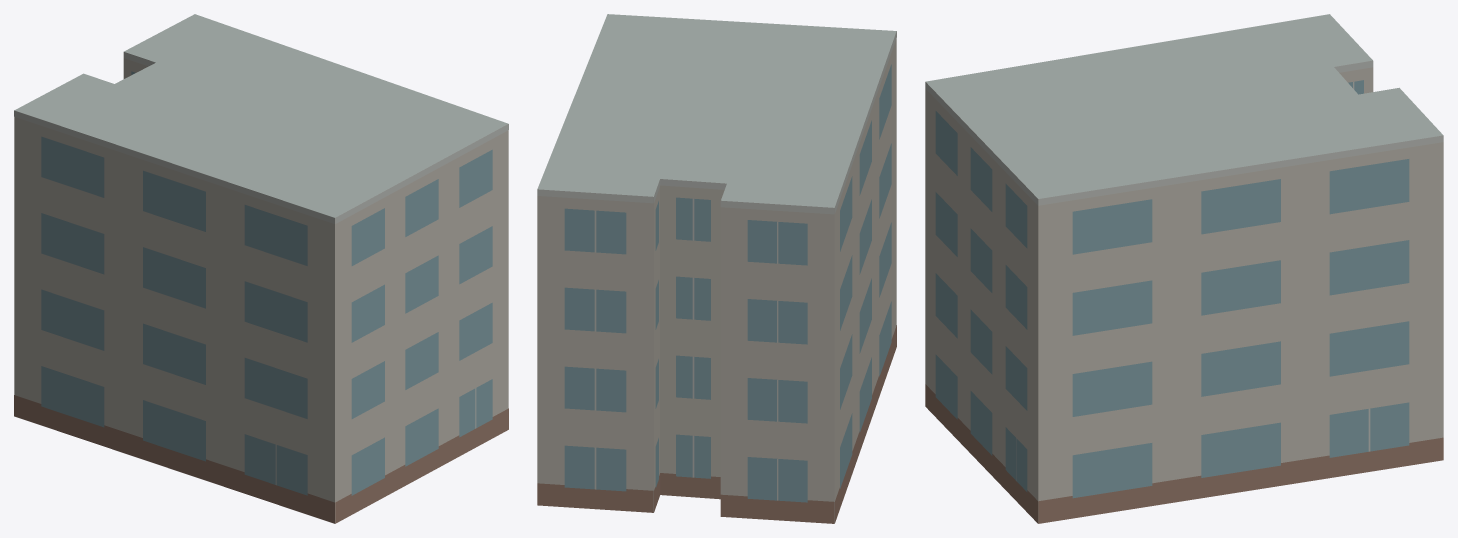
File: survey-upis-32887602.glb
The picture shows the model from 3 angles, left to right: view 1: azimuth 30°, elevation 25°; view 2: azimuth 150°, elevation 25°; view 3: azimuth 270°, elevation 25°; orthographic projection. The views are drawn at different scales.
Parts seen in each view (by area): view 1: survey-upis-32887602.tmp; view 2: survey-upis-32887602.tmp; view 3: survey-upis-32887602.tmp.
Part boxes in pixels (x1=…): survey-upis-32887602.tmp: x1=14, y1=14, x2=508, y2=523; survey-upis-32887602.tmp: x1=537, y1=14, x2=896, y2=523; survey-upis-32887602.tmp: x1=925, y1=14, x2=1443, y2=523.
Bounding box in the file's own units: 14.43 × 11.8 × 17.07.
